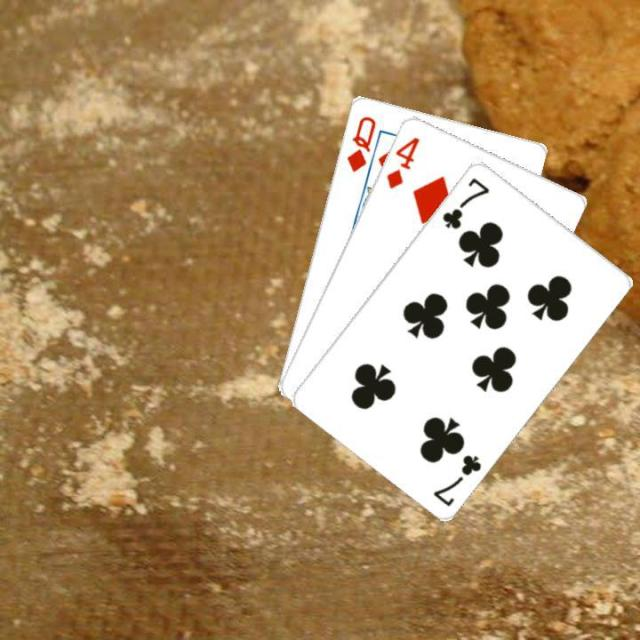4D: (382, 132, 422, 190)
7C: (428, 450, 484, 508), (438, 173, 492, 231)
QD: (342, 111, 378, 173)
